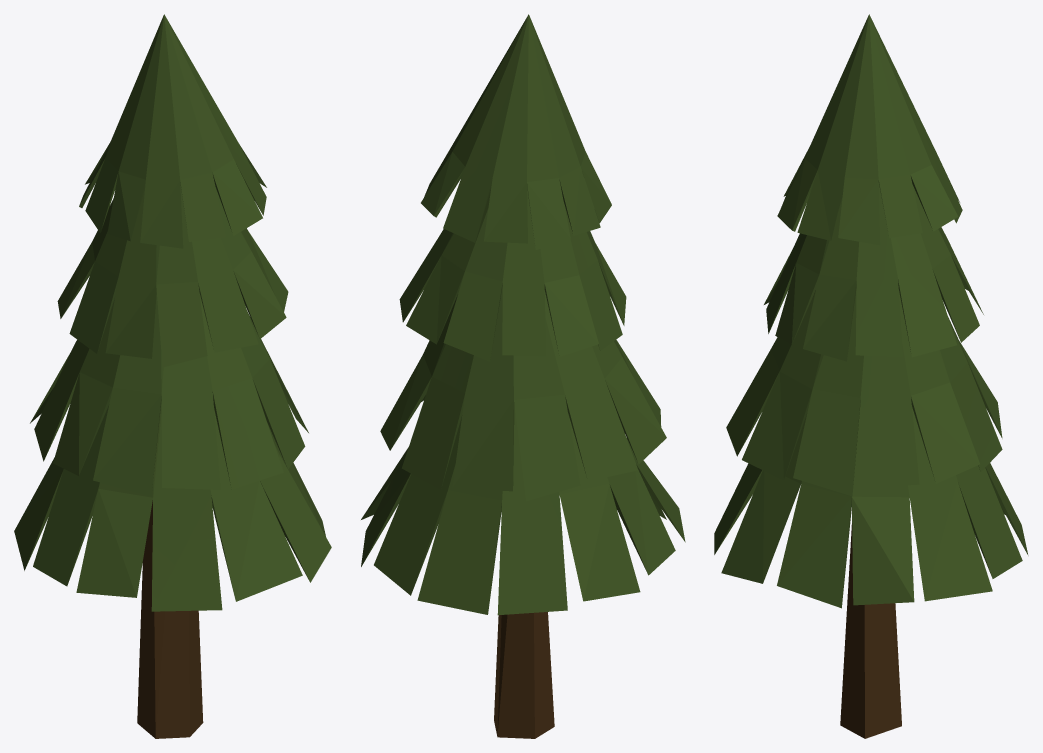
The model's file is Tree_02.fbx.
3 views of the same model, side by side, from view 1: azimuth 30°, elevation 25°; view 2: azimuth 150°, elevation 25°; view 3: azimuth 270°, elevation 25° (orthographic).
Visible parts, largest first — view 1: Tree_02; view 2: Tree_02; view 3: Tree_02.
Part boxes in pixels (x1,y1,x2,y2): Tree_02: (14, 14, 331, 738); Tree_02: (361, 14, 685, 738); Tree_02: (714, 14, 1028, 738).
Bounding box in the file's own units: 167 × 170 × 422.
